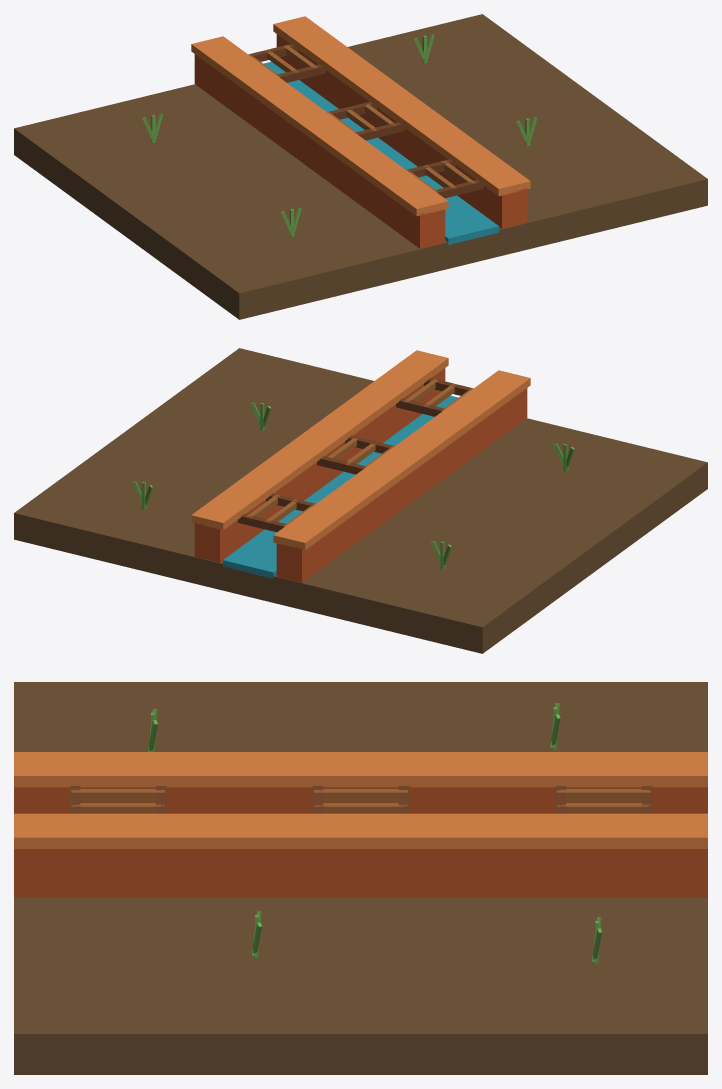
File: village_drain.glb
The picture shows the model from 3 angles, top to bottom: view 1: azimuth 30°, elevation 25°; view 2: azimuth 150°, elevation 25°; view 3: azimuth 270°, elevation 25°; orthographic projection. The views are drawn at different scales.
Parts seen in each view (by area): view 1: TerrainBase, DrainCap, DrainCap.001, DrainWall, DrainWall.001, DrainWater; view 2: TerrainBase, DrainCap, DrainCap.001, DrainWall, DrainWall.001, DrainWater; view 3: TerrainBase, DrainWall.001, DrainCap.001, DrainCap, DrainWall, DrainGrate, DrainGrate.006, DrainGrate.003, DrainGrate.001, DrainGrate.004, DrainGrate.007.
Boxes of the visible parts, x1,y1,x2,y2 form: TerrainBase: (14,14,707,319); DrainCap: (191,36,448,216); DrainCap.001: (273,16,530,196); DrainWall: (194,54,445,248); DrainWall.001: (276,34,527,228); DrainWater: (264,61,498,244); TerrainBase: (14,348,707,653); DrainCap: (273,370,530,550); DrainCap.001: (191,350,448,530); DrainWall: (276,388,527,582); DrainWall.001: (194,368,445,562); DrainWater: (223,395,457,578); TerrainBase: (14,682,707,1074); DrainWall.001: (14,849,707,897); DrainCap.001: (14,813,707,848); DrainCap: (14,752,707,787); DrainWall: (14,787,707,813); DrainGrate: (71,789,164,801); DrainGrate.006: (557,789,650,801); DrainGrate.003: (314,789,407,801); DrainGrate.001: (71,803,164,813); DrainGrate.004: (314,803,407,813); DrainGrate.007: (557,803,650,813).
Bounding box in the file's own units: 12 × 1.65 × 10.
